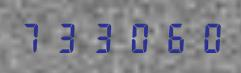seven: (17, 20, 50, 53)
six: (154, 20, 187, 53)
three: (51, 20, 84, 53), (86, 20, 119, 53)
zero: (120, 20, 153, 53), (188, 20, 221, 53)
